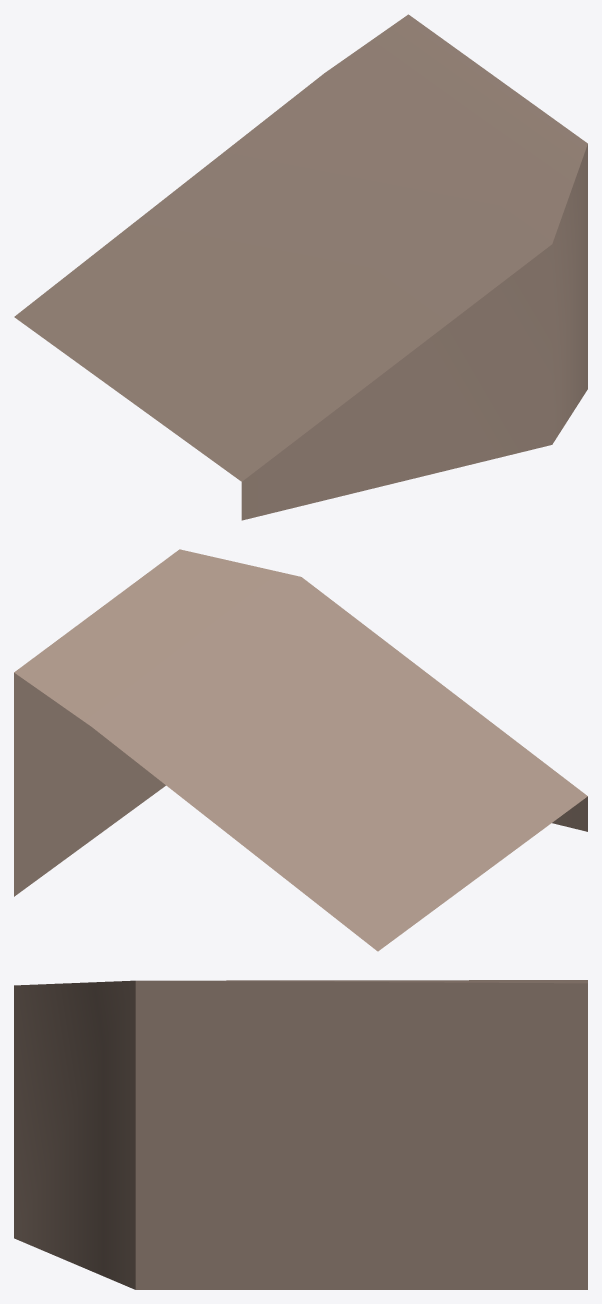
Rendered from BD_RoofSlant_col_CornerDecline.fbx.
The picture shows the model from 3 angles, top to bottom: view 1: azimuth 30°, elevation 25°; view 2: azimuth 150°, elevation 25°; view 3: azimuth 270°, elevation 25°; orthographic projection. The views are drawn at different scales.
Parts seen in each view (by area): view 1: BD_RoofSlant_col_CornerDecline; view 2: BD_RoofSlant_col_CornerDecline; view 3: BD_RoofSlant_col_CornerDecline.
Boxes of the visible parts, <box> form: BD_RoofSlant_col_CornerDecline: <box>14,14,587,520</box>; BD_RoofSlant_col_CornerDecline: <box>14,549,587,951</box>; BD_RoofSlant_col_CornerDecline: <box>14,980,587,1289</box>.
Bounding box in the file's own units: 6 × 3.57 × 6.
